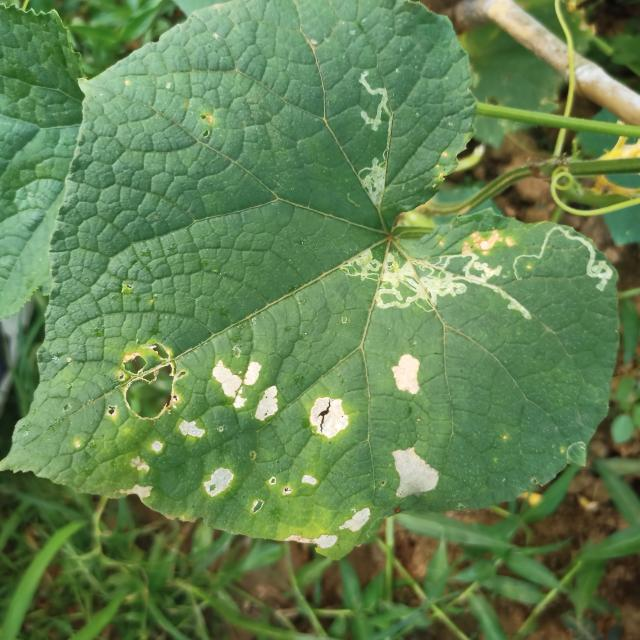disease_cucumber: (66, 325, 371, 554), (379, 348, 447, 510)
